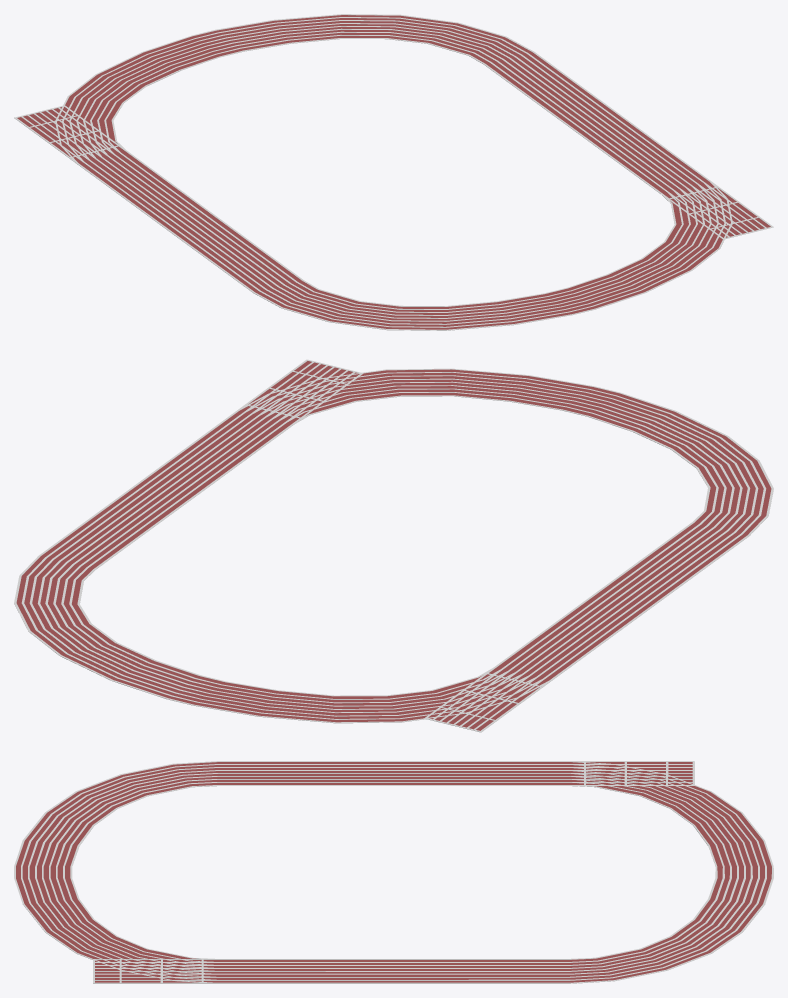
Rendered from Track.fbx.
The picture shows the model from 3 angles, top to bottom: view 1: azimuth 30°, elevation 25°; view 2: azimuth 150°, elevation 25°; view 3: azimuth 270°, elevation 25°; orthographic projection. The views are drawn at different scales.
Visible parts, largest first — view 1: Track; view 2: Track; view 3: Track.
Part boxes in pixels (bbox=[...]): Track: bbox=[14, 14, 773, 330]; Track: bbox=[14, 359, 773, 732]; Track: bbox=[14, 761, 773, 983].
Size of the model in its own units: 40110 by 42 by 57886.
